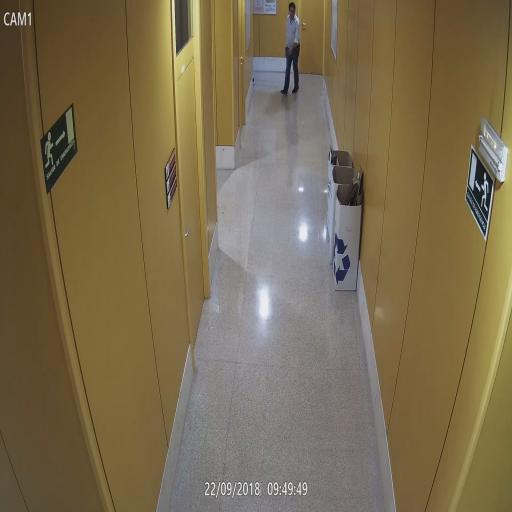Handgun: (282, 44, 290, 57)
